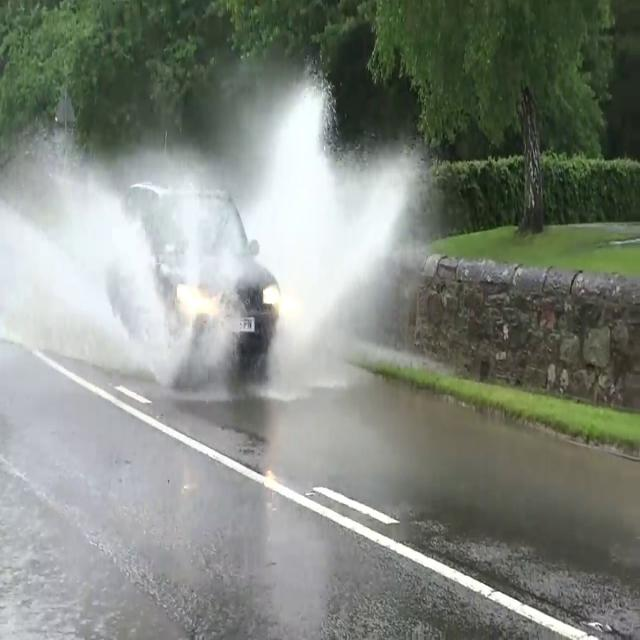license-plate-annotation: (214, 312, 258, 333)
